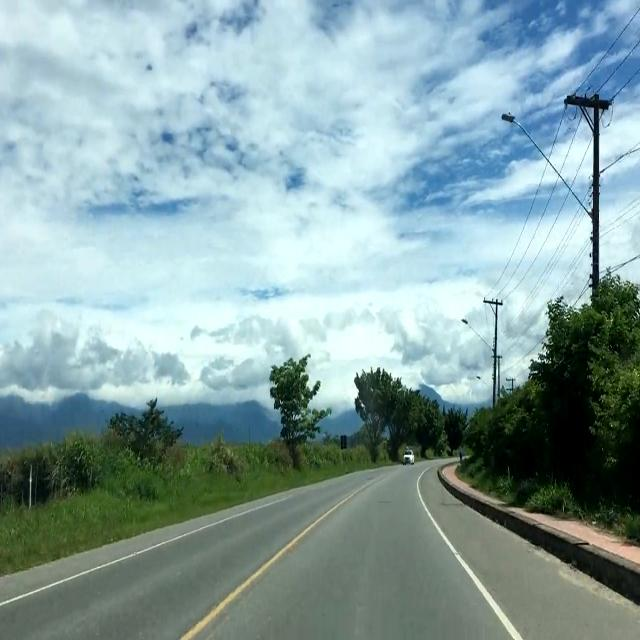lane: (0, 499, 288, 607), (178, 490, 357, 640), (418, 470, 520, 640)
road: (0, 462, 640, 638)
